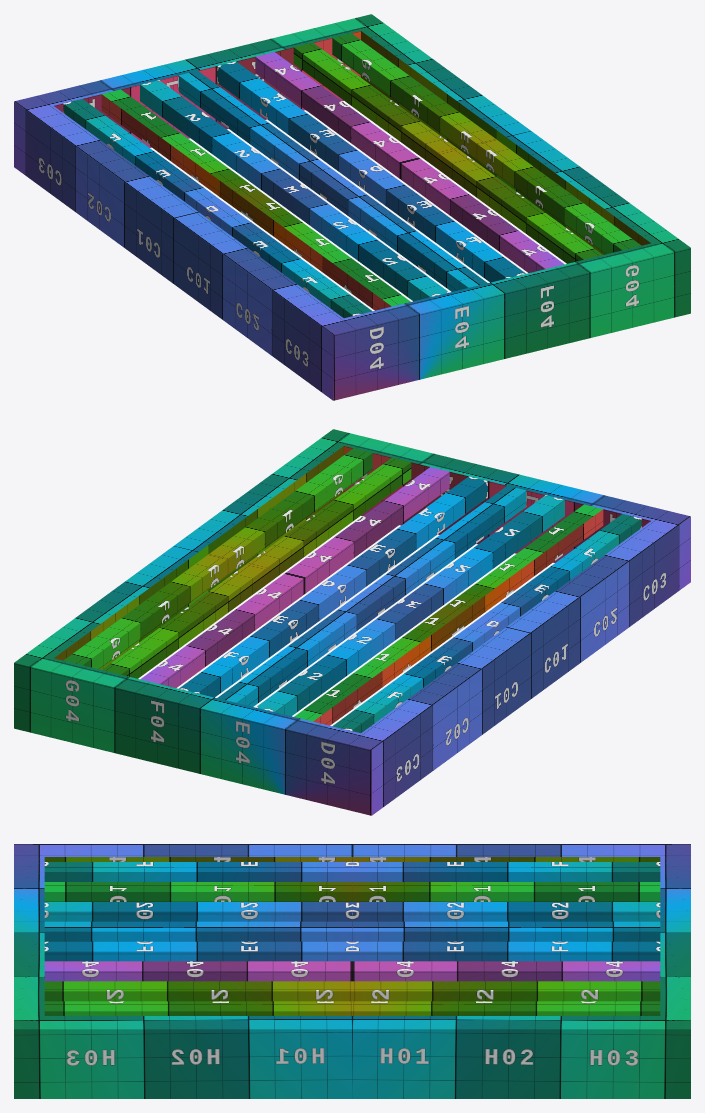
File: ElecLongPanel.fbx
3 views of the same model, one above another, from view 1: azimuth 30°, elevation 25°; view 2: azimuth 150°, elevation 25°; view 3: azimuth 270°, elevation 25° (orthographic). The views are drawn at different scales.
Parts seen in each view (by area): view 1: PS_low; view 2: PS_low; view 3: PS_low.
Part boxes in pixels (bbox=[...]): PS_low: bbox=[14, 14, 690, 400]; PS_low: bbox=[14, 429, 690, 815]; PS_low: bbox=[14, 844, 690, 1098].
Size of the model in its own units: 285 by 50 by 440.
